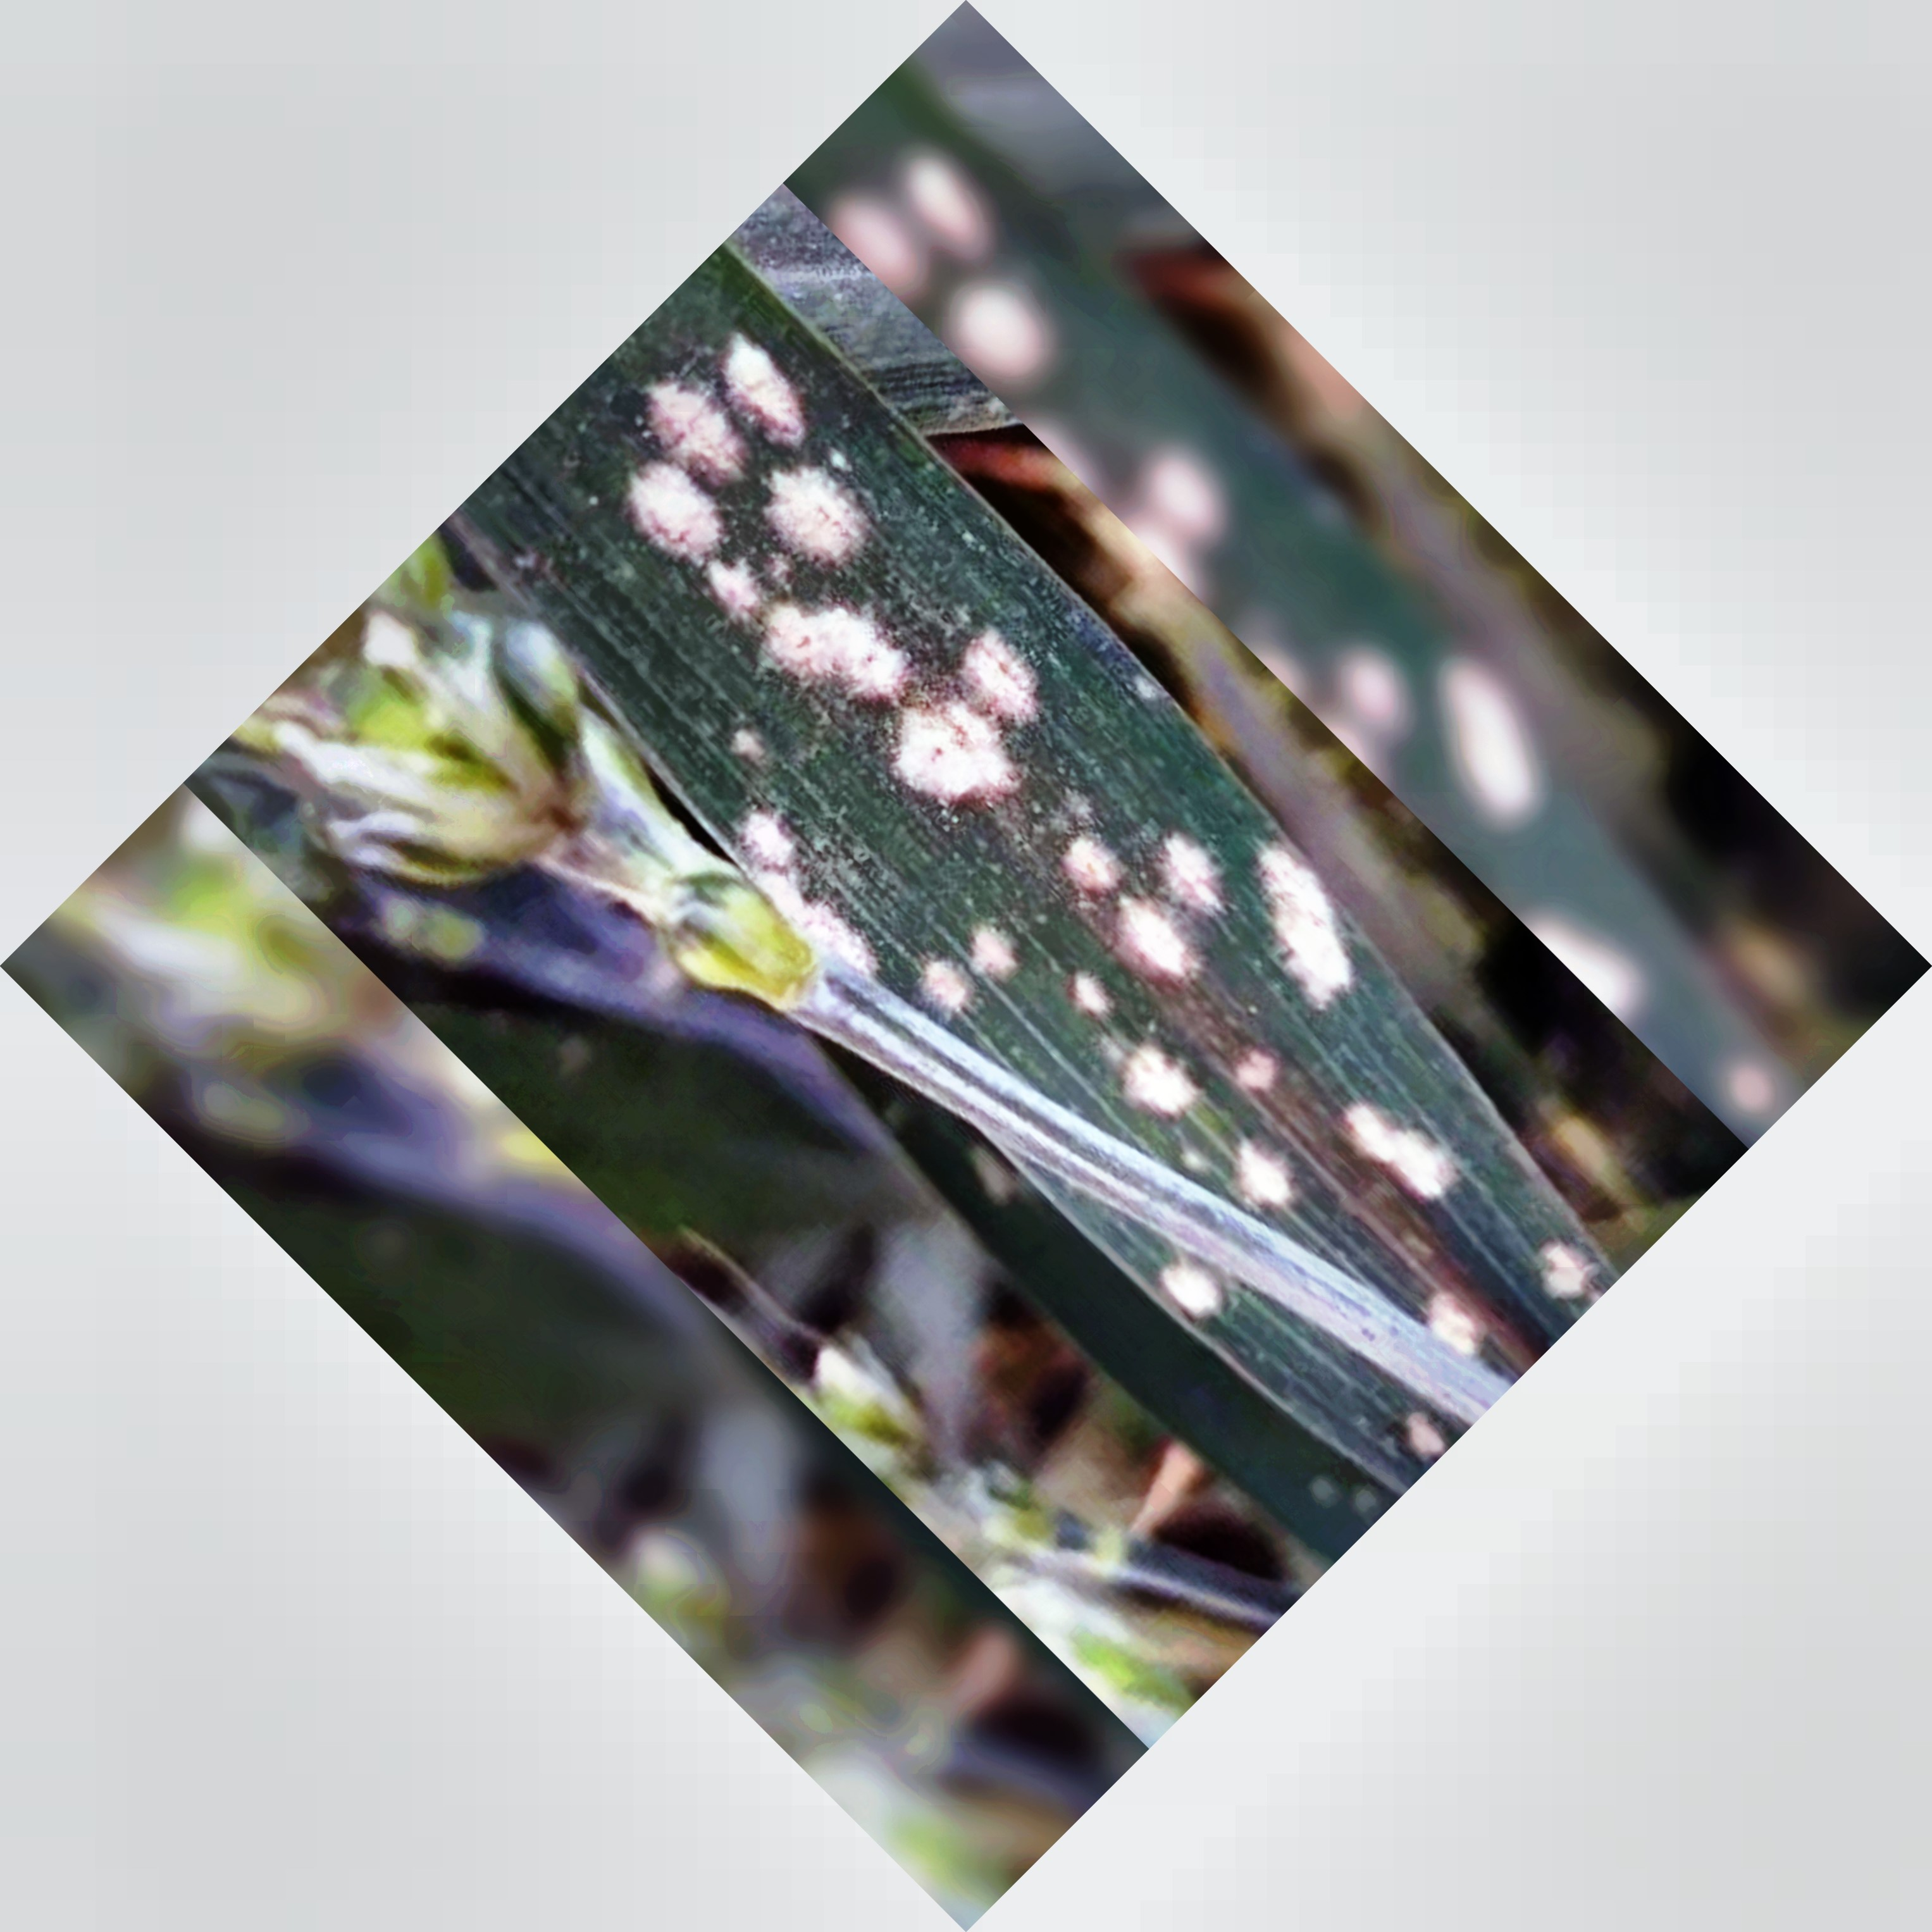Powdery Mildew: (623, 350, 1437, 1270)
